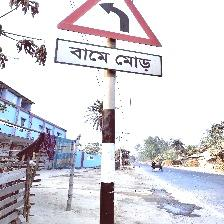Left-Turn: (55, 0, 164, 77)
